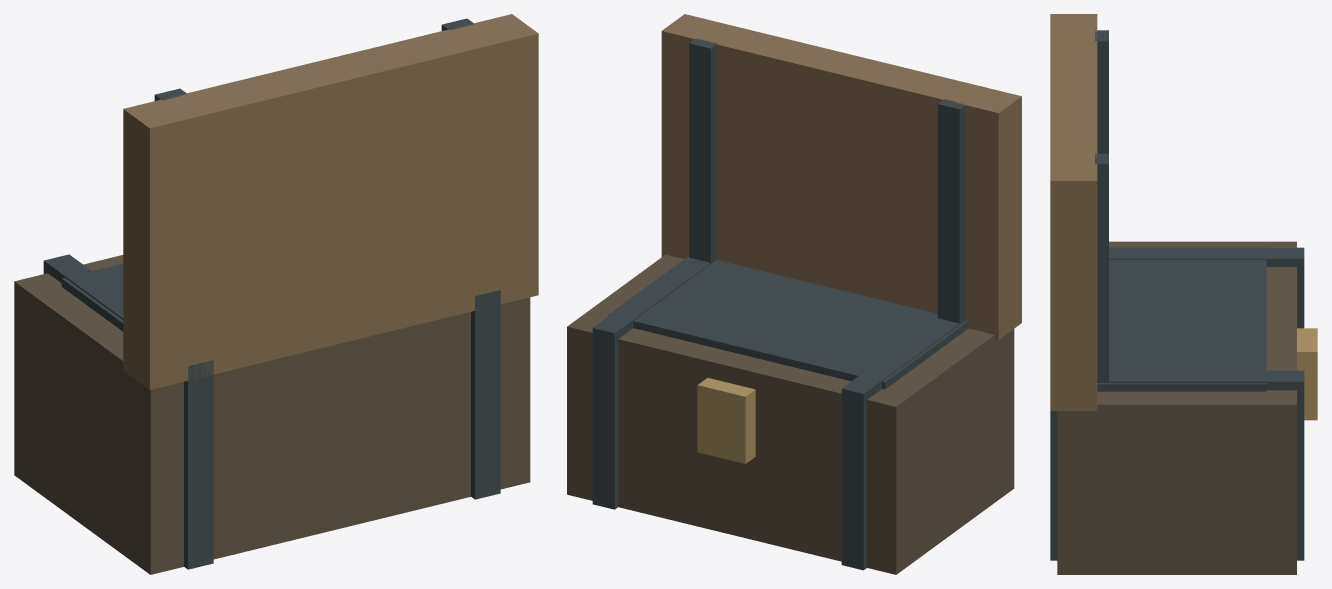
Rendered from Equip_ChestOpen.fbx.
The picture shows the model from 3 angles, left to right: view 1: azimuth 30°, elevation 25°; view 2: azimuth 150°, elevation 25°; view 3: azimuth 270°, elevation 25°; orthographic projection. The views are drawn at different scales.
Visible parts, largest first — view 1: Equip_ChestOpen; view 2: Equip_ChestOpen; view 3: Equip_ChestOpen.
Part boxes in pixels (x1,y1,x2,y2): Equip_ChestOpen: (14, 14, 538, 574); Equip_ChestOpen: (567, 14, 1021, 574); Equip_ChestOpen: (1050, 14, 1317, 574).
Size of the model in its own units: 0.84 by 0.93 by 0.5685.
